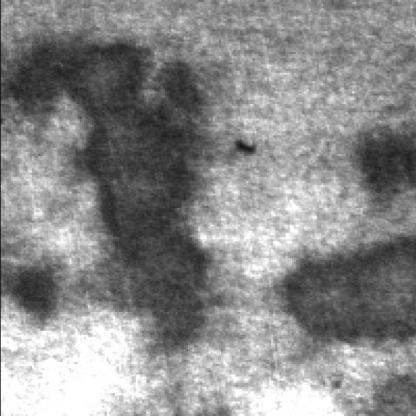patches: (77, 44, 218, 345), (4, 27, 164, 127), (279, 233, 416, 347), (4, 244, 69, 326), (360, 124, 416, 200), (355, 366, 416, 414)
